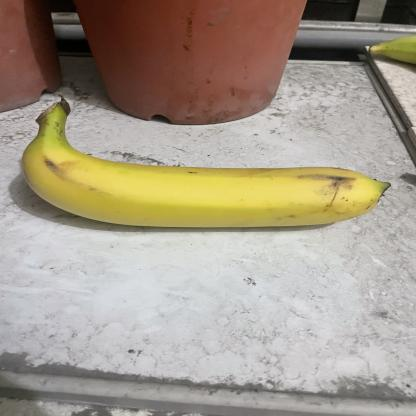banana: (19, 94, 388, 231)
